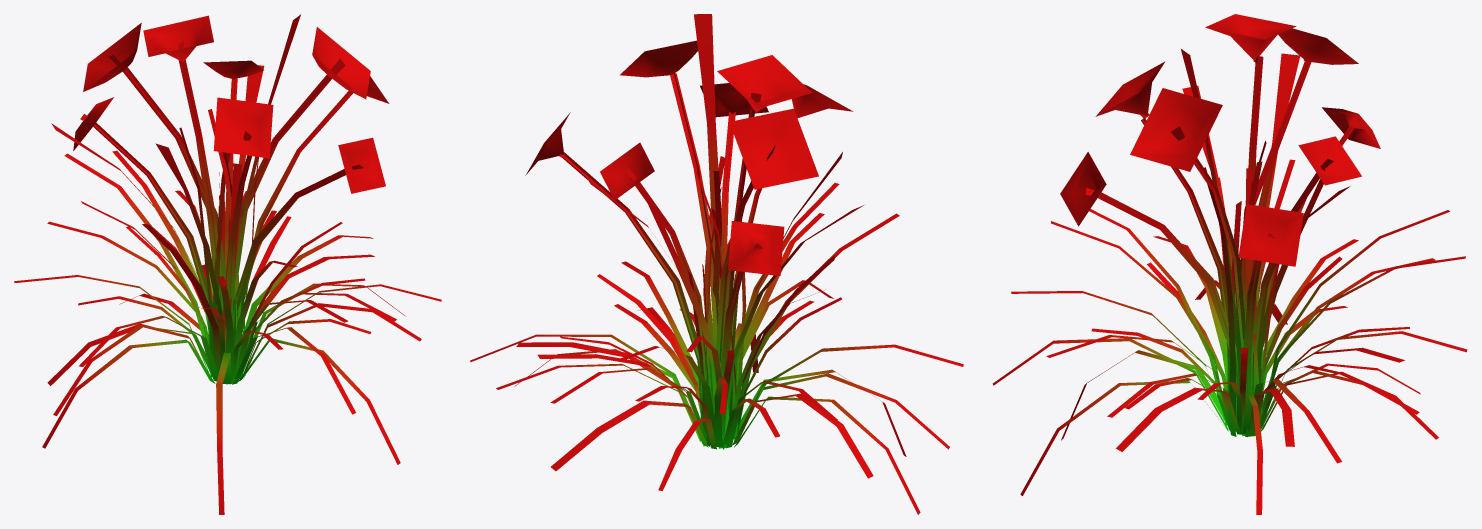
Rendered from White Windflower_LOD2_Var3_sktlN.fbx.
The picture shows the model from 3 angles, left to right: view 1: azimuth 30°, elevation 25°; view 2: azimuth 150°, elevation 25°; view 3: azimuth 270°, elevation 25°; orthographic projection. The views are drawn at different scales.
Parts seen in each view (by area): view 1: _4f36_Var3_LOD2; view 2: _4f36_Var3_LOD2; view 3: _4f36_Var3_LOD2.
Boxes of the visible parts, x1=… form: _4f36_Var3_LOD2: x1=14, y1=14, x2=441, y2=514; _4f36_Var3_LOD2: x1=470, y1=14, x2=963, y2=514; _4f36_Var3_LOD2: x1=992, y1=14, x2=1467, y2=514.
Bounding box in the file's own units: 81.08 × 85.33 × 80.24.
